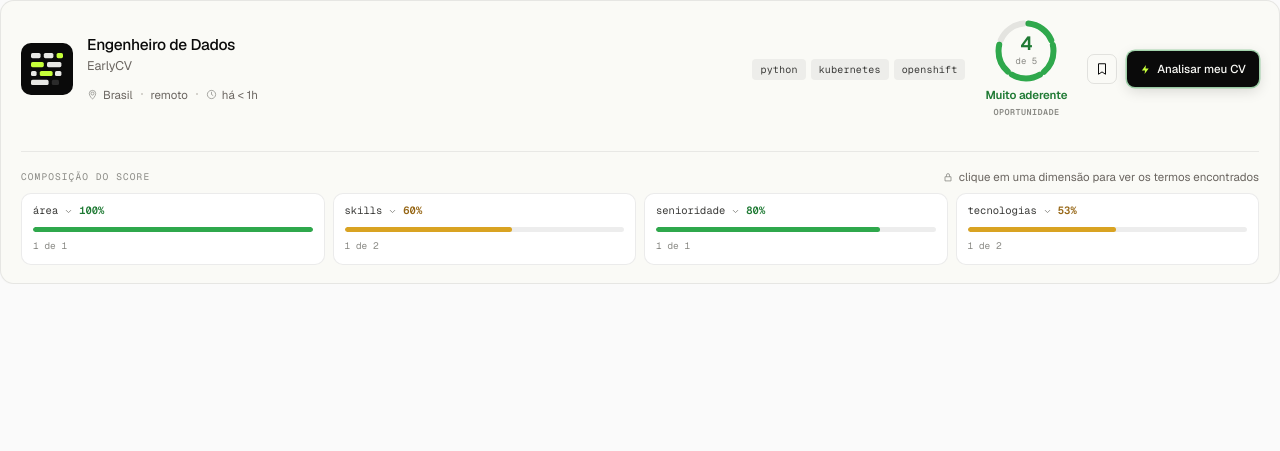
Scenario: JobCard keyword badges › renders the clickable score breakdown panel when hasScore and breakdownDetails are present
Click the button "skills 60% 1 de 2" at (484, 229), box [332,193,636,265]
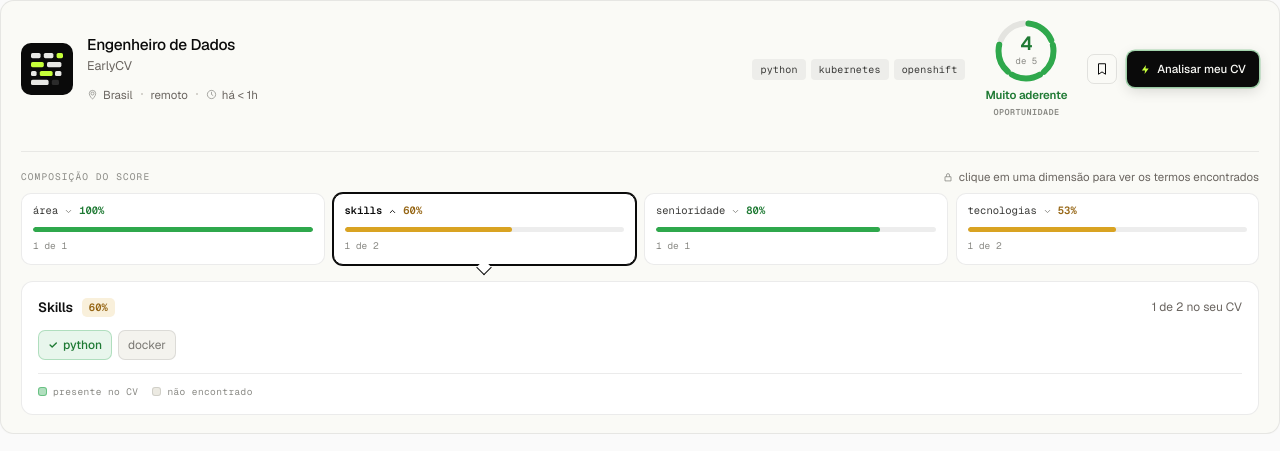
expect the text "docker" is shown: met, box [118,330,176,360]
expect the text "1 de 2 no seu CV" is shown: met, box [1152,298,1242,316]
